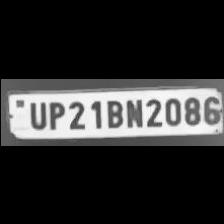0: (162, 95, 182, 125)
1: (86, 97, 104, 129)
2: (64, 97, 86, 128), (142, 96, 162, 126)
6: (200, 93, 222, 125)
8: (181, 94, 201, 124)
B: (103, 97, 123, 127)
N: (123, 96, 143, 127)
P: (44, 97, 64, 128)
U: (25, 97, 47, 128)
